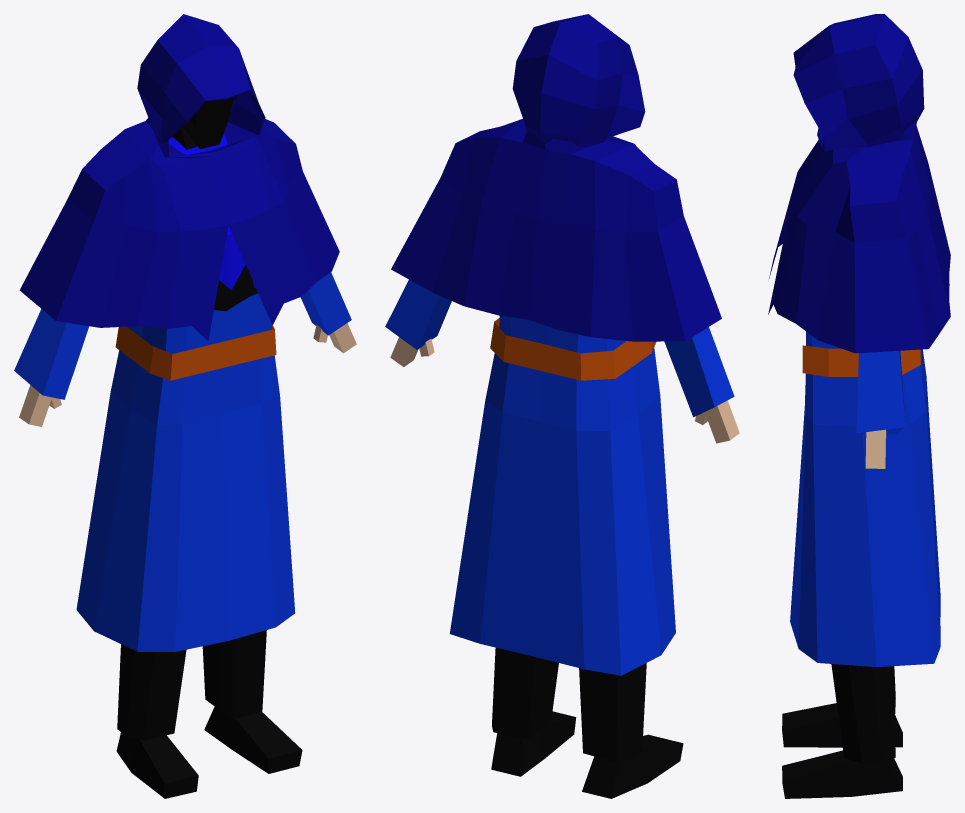
Rendered from Shop.fbx.
The picture shows the model from 3 angles, left to right: view 1: azimuth 30°, elevation 25°; view 2: azimuth 150°, elevation 25°; view 3: azimuth 270°, elevation 25°; orthographic projection. The views are drawn at different scales.
Visible parts, largest first — view 1: Shop.001; view 2: Shop.001; view 3: Shop.001.
Part boxes in pixels (bbox=[...]): Shop.001: bbox=[14, 14, 356, 798]; Shop.001: bbox=[385, 14, 739, 798]; Shop.001: bbox=[768, 14, 950, 798].
Size of the model in its own units: 91.52 by 195 by 43.
